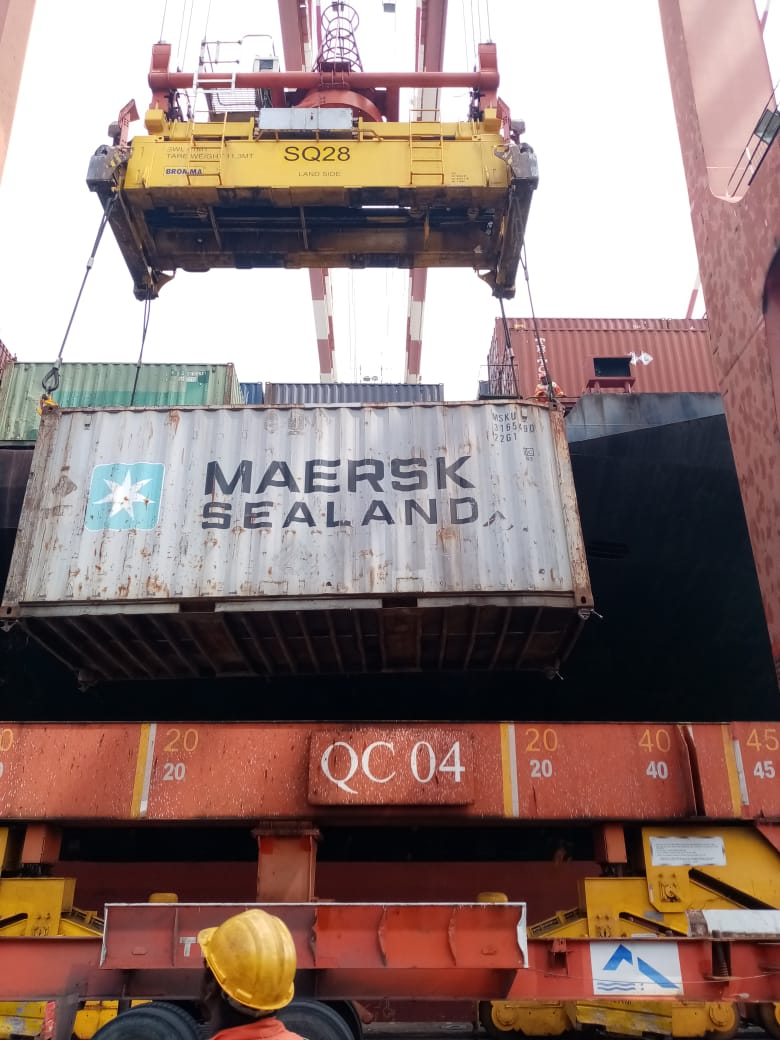moderate: (181, 519, 476, 584)
